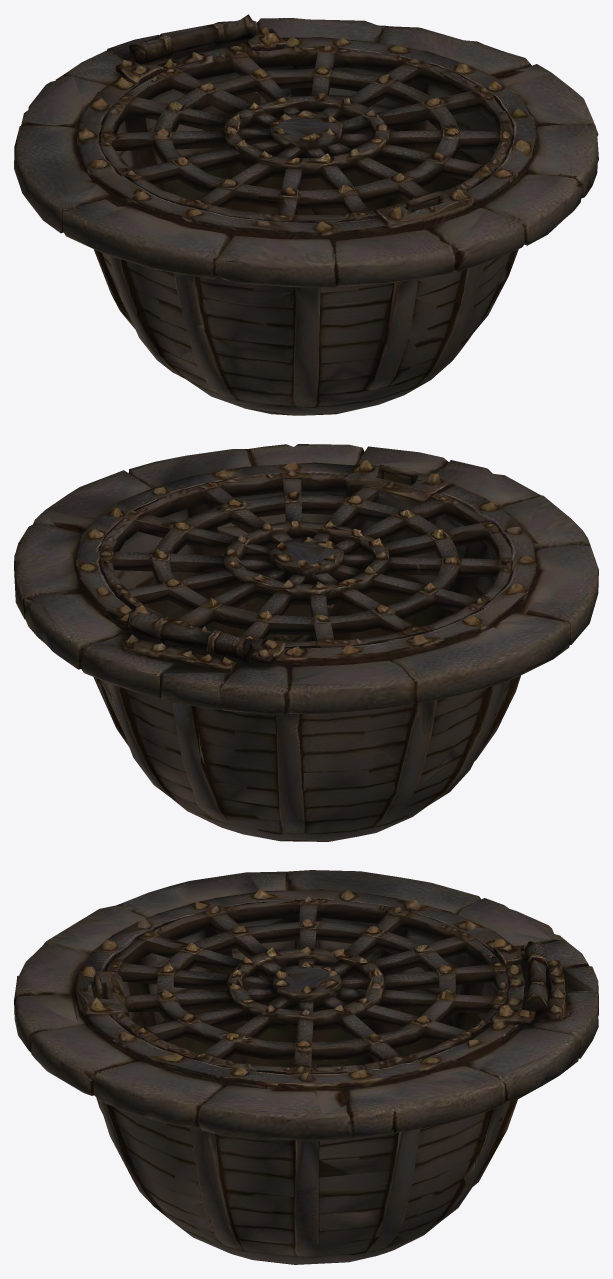
File: shaftgrate.glb
The picture shows the model from 3 angles, top to bottom: view 1: azimuth 30°, elevation 25°; view 2: azimuth 150°, elevation 25°; view 3: azimuth 270°, elevation 25°; orthographic projection.
Visible parts, largest first — view 1: shaftgrate; view 2: shaftgrate; view 3: shaftgrate.
Boxes of the visible parts, x1=… form: shaftgrate: x1=14, y1=14, x2=598, y2=415; shaftgrate: x1=14, y1=444, x2=598, y2=841; shaftgrate: x1=14, y1=870, x2=598, y2=1264.
Size of the model in its own units: 3.6 by 1.81 by 3.59.
1 material, 1 textured.
